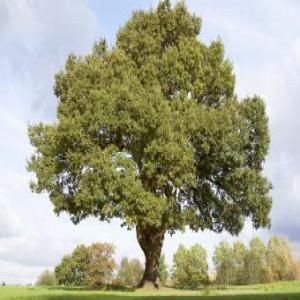Tree: (23, 0, 274, 286)
